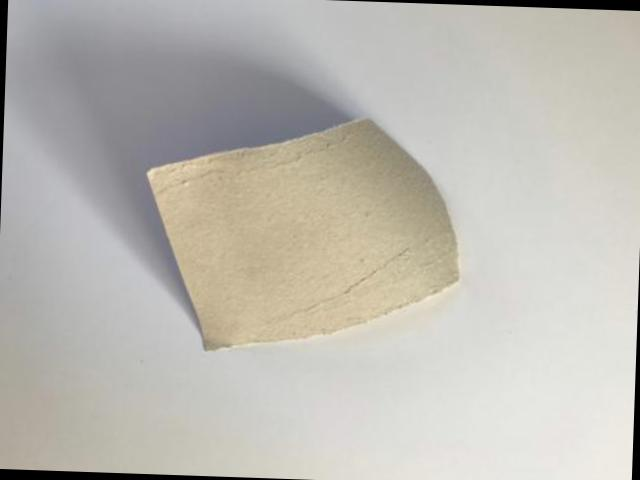cardboard paper: (150, 122, 461, 352)
